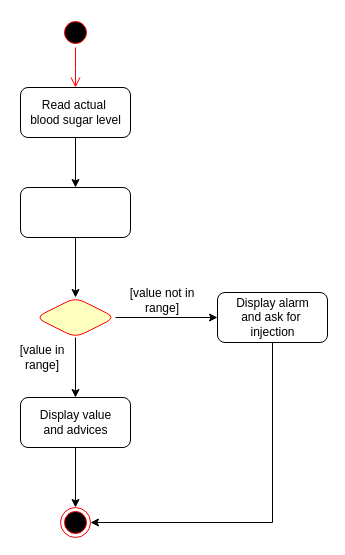
The diagram is 345 pixels wide and 555 high, and some of its shapes have lost their labels. The centre of each missing label's shape, as x and y in pixels:
Comparison with history: point (75, 212)
Condition: point (75, 317)
